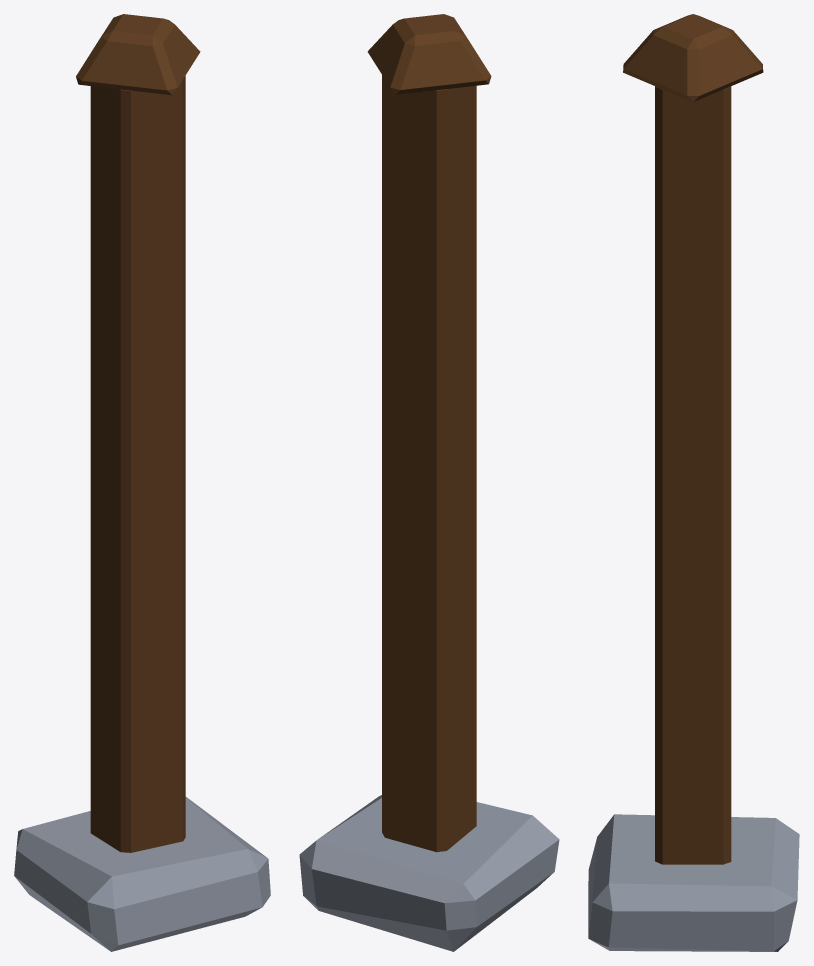
File: Signpost.fbx
3 views of the same model, side by side, from view 1: azimuth 30°, elevation 25°; view 2: azimuth 150°, elevation 25°; view 3: azimuth 270°, elevation 25° (orthographic). The views are drawn at different scales.
Visible parts, largest first — view 1: Post, Stone; view 2: Post, Stone; view 3: Post, Stone.
Part boxes in pixels (bbox=[...]): Post: bbox=[76, 14, 200, 852]; Stone: bbox=[14, 797, 270, 951]; Post: bbox=[367, 14, 491, 852]; Stone: bbox=[299, 795, 559, 951]; Post: bbox=[623, 14, 763, 864]; Stone: bbox=[588, 814, 799, 951].
Bounding box in the file's own units: 1.68 × 7.8 × 1.66.
